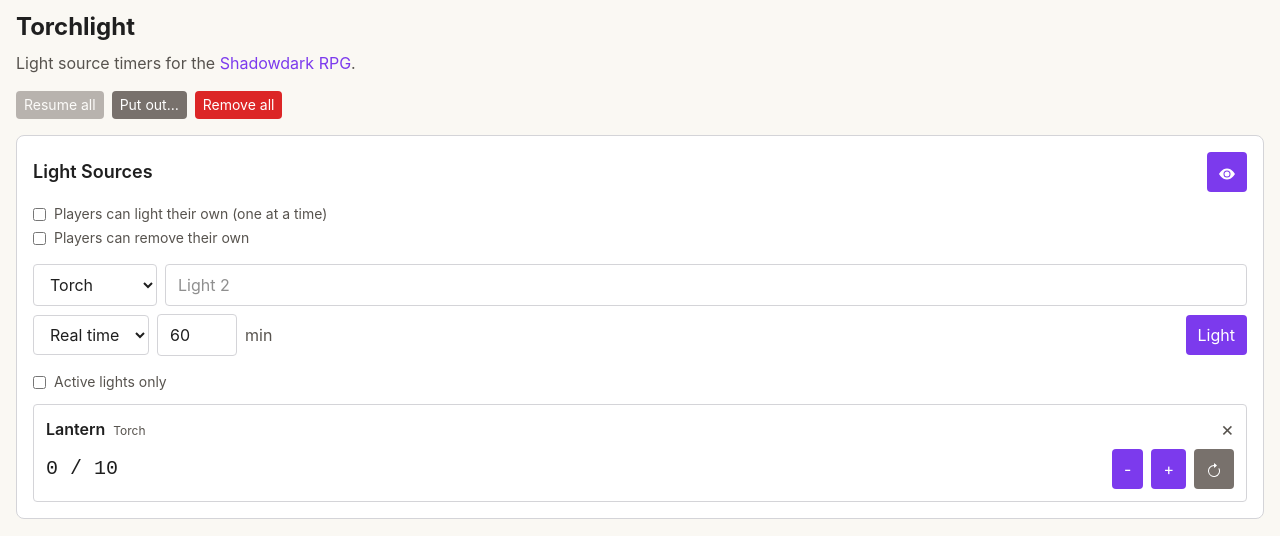
Test: Main (Torchlight) › doesn't lose rapid clicks to stale echoes of its own writes
Click the button titled "Burn a turn" at (1169, 469), box [1151,449,1186,489]
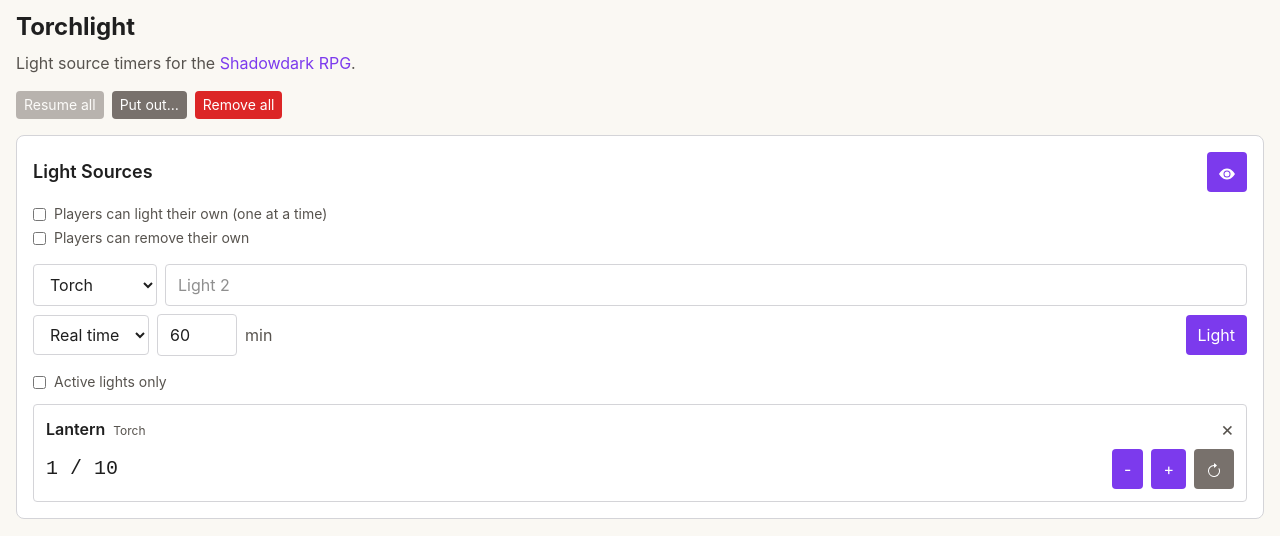
Click the button titled "Burn a turn" at (1169, 469), box [1151,449,1186,489]
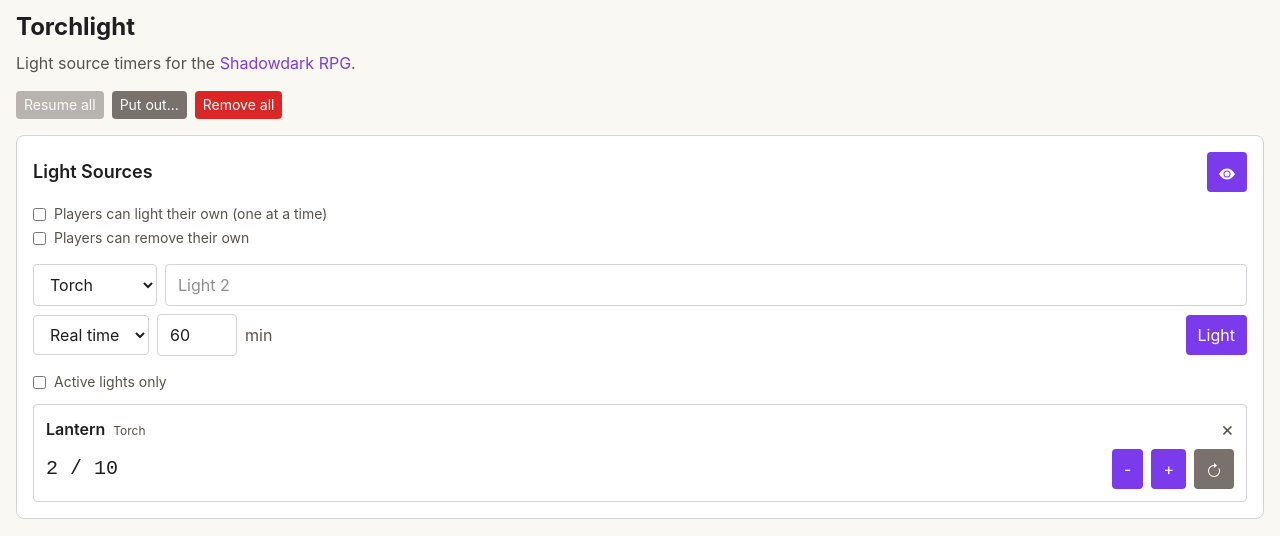
Click the button titled "Burn a turn" at (1169, 469), box [1151,449,1186,489]
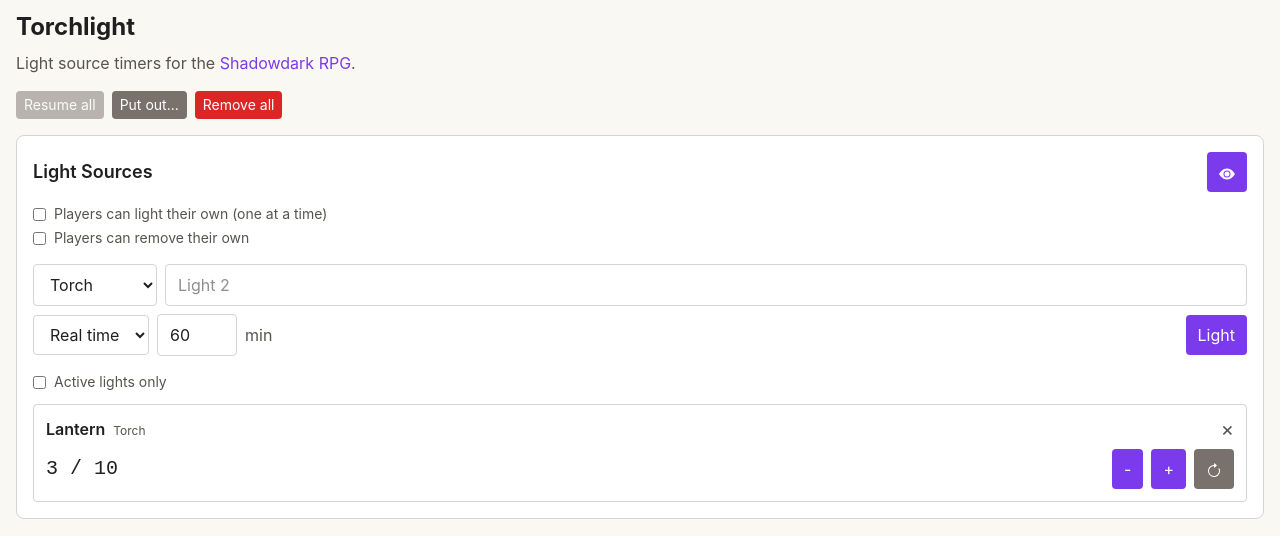
Expected: the text "3 / 10" is shown, [46,455,118,483]
